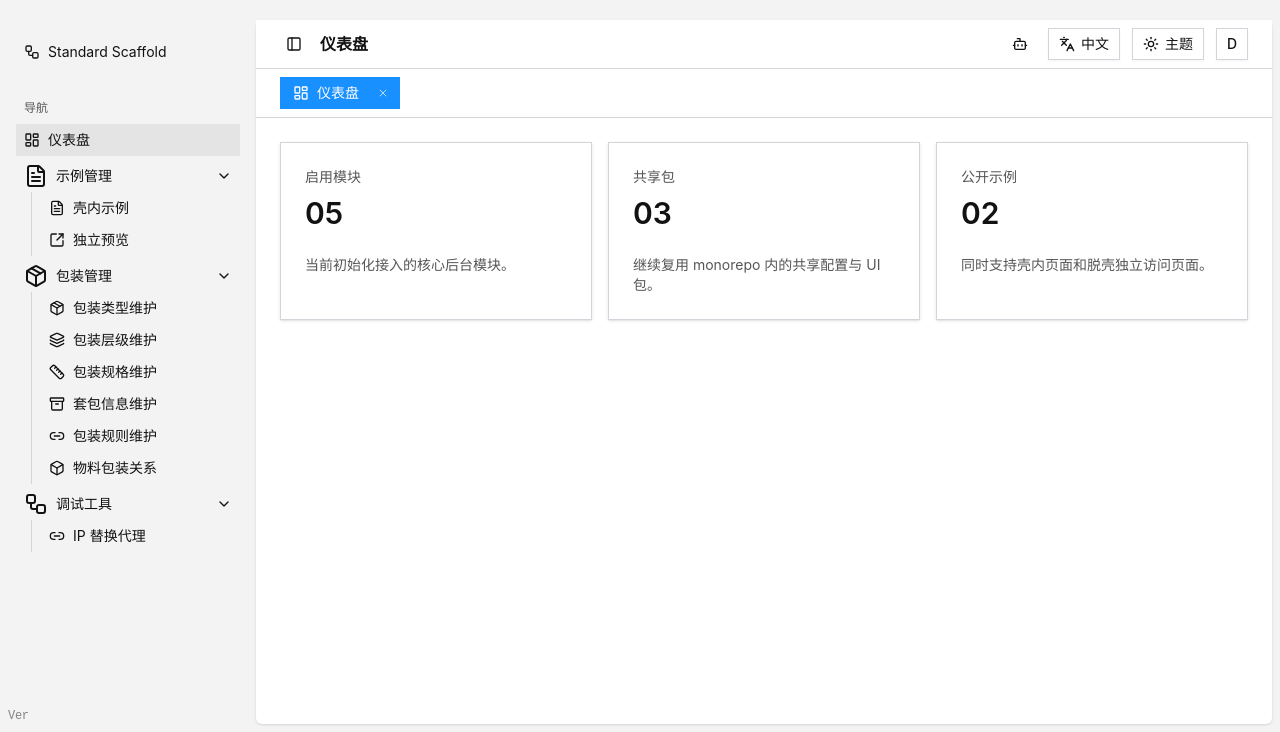
Test case: App routing › shows the current username inside the header user menu
This screenshot has width=1280, height=732.
Press the mouse on the button named "打开用户菜单": (1232, 44) [1216,28,1248,60]
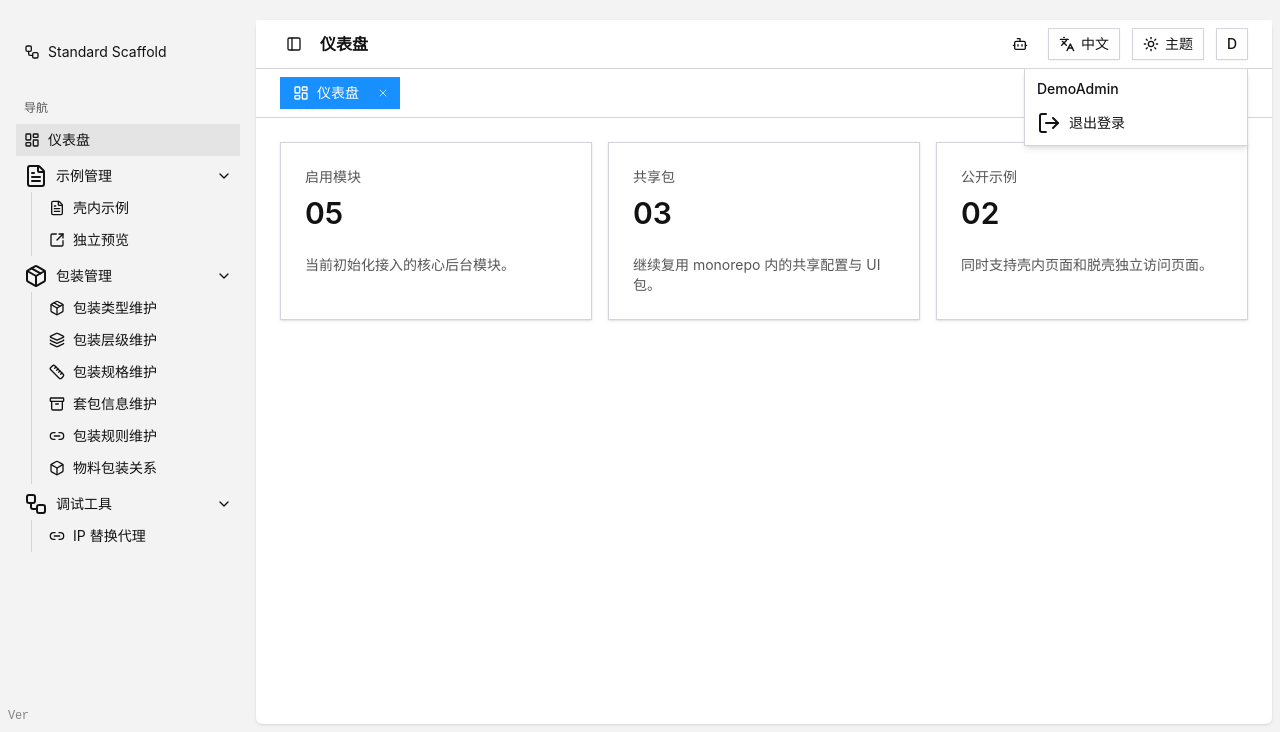
Check: the text "DemoAdmin" is shown, box [1037,80,1119,97]
Check: the menu item "退出登录" is shown, box [1037,111,1125,135]
